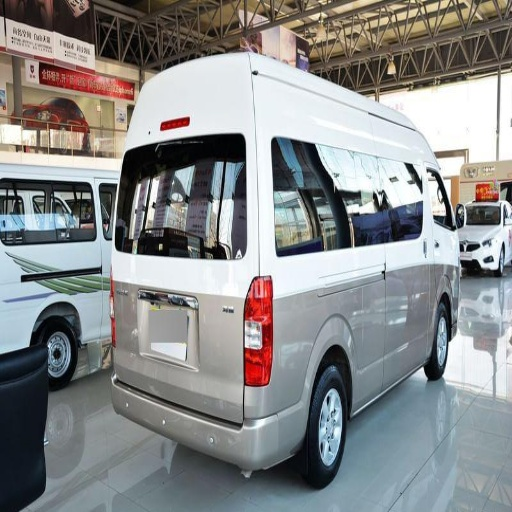back_bumper: (121, 386, 310, 468)
back_right_door: (355, 345, 382, 400)
trunk: (18, 259, 264, 419), (266, 259, 449, 407)
